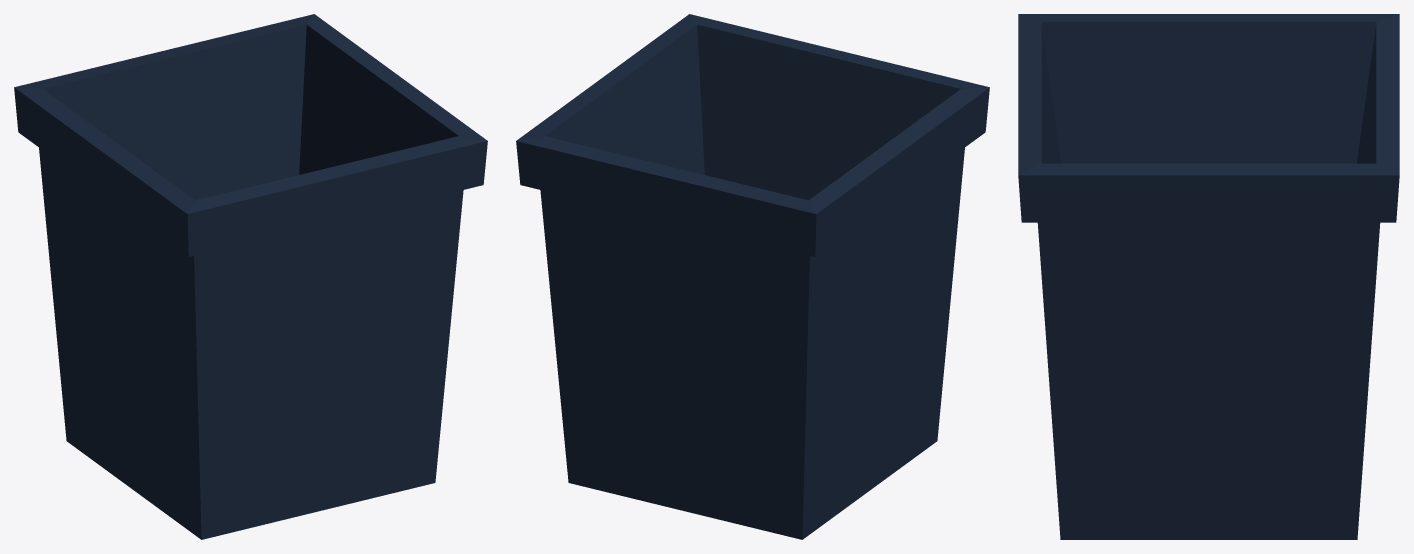
The model's file is Prop_CTPTrashCan_01.fbx.
The picture shows the model from 3 angles, left to right: view 1: azimuth 30°, elevation 25°; view 2: azimuth 150°, elevation 25°; view 3: azimuth 270°, elevation 25°; orthographic projection. The views are drawn at different scales.
Visible parts, largest first — view 1: Prop_CTPTrashCan_01; view 2: Prop_CTPTrashCan_01; view 3: Prop_CTPTrashCan_01.
Boxes of the visible parts, bbox=[...] form: Prop_CTPTrashCan_01: bbox=[14, 14, 487, 539]; Prop_CTPTrashCan_01: bbox=[516, 14, 989, 539]; Prop_CTPTrashCan_01: bbox=[1018, 14, 1399, 539].
Size of the model in its own units: 66.79 by 74.26 by 66.79.
